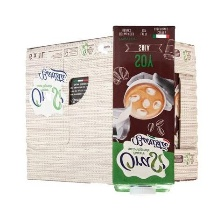carton: (108, 19, 180, 199)
